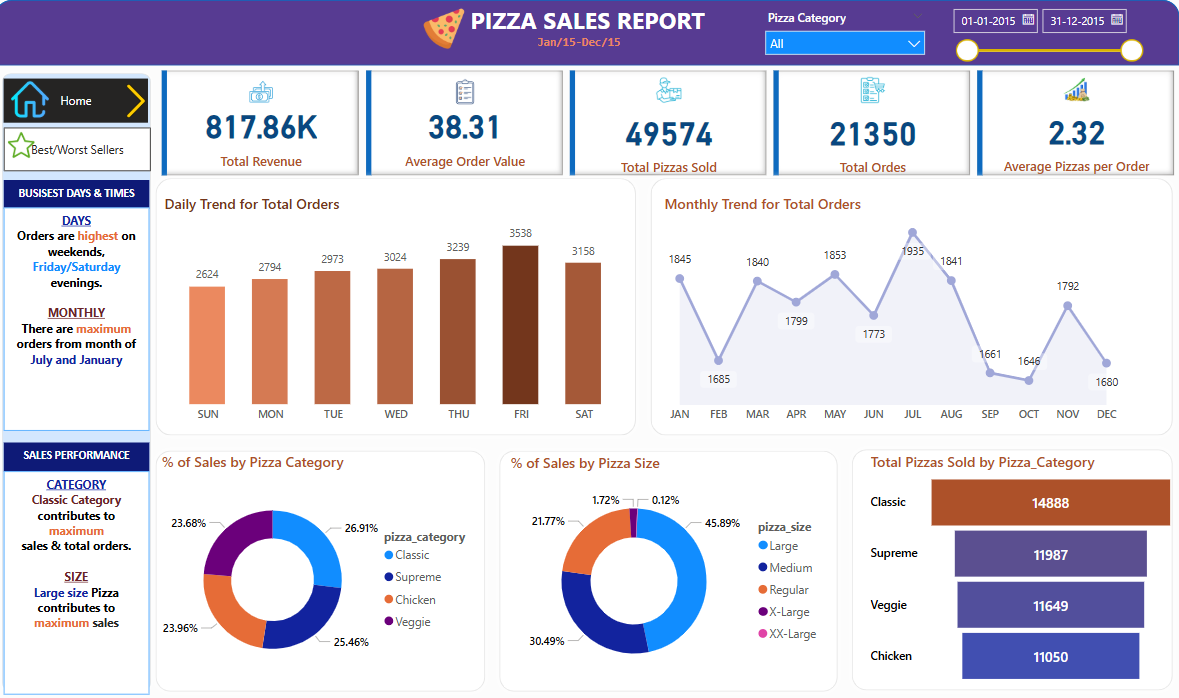

This screenshot's page, from the dashboard's own definition file:
{"tool":"powerbi","page":{"name":"Home","canvas":[1500,820],"ordinal":0},"visuals":[{"type":"shape","box":[0,75,186.2,722.5],"z":0},{"type":"textbox","box":[10,205,166.2,32.5],"z":1000},{"type":"cardVisual","fields":{"Data":["pizza_sales.Total Revenue","pizza_sales.Average Order Value","pizza_sales.Total Pizzas Sold","pizza_sales.Total Ordes","pizza_sales.Average Pizzas per Order"]},"box":[186.2,75,1167.5,130],"z":2000},{"type":"shape","box":[0,0,1353.8,75],"z":3000},{"type":"textbox","box":[528.8,0,297.5,46.2],"z":4000},{"type":"textbox","box":[613.8,32.5,122.5,32.5],"z":5000},{"type":"image","box":[483.8,0,57.5,65],"z":6000},{"type":"shape","box":[176.2,196.2,565,310],"z":7000},{"type":"columnChart","title":"Daily Trend for Total Orders","fields":{"Category":["pizza_sales.Order Day"],"Y":["pizza_sales.Total Ordes"]},"box":[188,221.3,540,270.7],"z":8000},{"type":"shape","box":[741.2,196.2,612.5,310],"z":9000},{"type":"areaChart","title":"Monthly Trend for Total Orders","fields":{"Y":["pizza_sales.Total Ordes"],"Category":["pizza_sales.Order Month"]},"box":[760,221.3,533.3,270.7],"z":10000},{"type":"shape","box":[176.2,507.5,392.5,291.2],"z":11000},{"type":"shape","box":[568.8,507.5,402.5,291.2],"z":12000},{"type":"shape","box":[971.2,506.2,382.5,291.2],"z":13000},{"type":"donutChart","title":"% of Sales by Pizza Category","fields":{"Category":["pizza_sales.pizza_category"],"Y":["pizza_sales.Total Revenue"]},"box":[186.2,516.2,372.5,272.5],"z":14000},{"type":"donutChart","title":"% of Sales by Pizza Size","fields":{"Y":["pizza_sales.Total Revenue"],"Category":["pizza_sales.pizza_size"]},"box":[583.8,517.5,372.5,272.5],"z":15000},{"type":"funnel","title":"Total Pizzas Sold by Pizza_Category","fields":{"Category":["pizza_sales.pizza_category"],"Y":["pizza_sales.Total Pizzas Sold"]},"box":[996.2,516.2,357.5,271.2],"z":16000},{"type":"textbox","box":[10,237.5,166.2,255],"z":17000},{"type":"textbox","box":[10,506.2,166.2,32.5],"z":18000},{"type":"textbox","box":[10,538.8,166.2,255],"z":19000},{"type":"slicer","fields":{"Values":["pizza_sales.pizza_category"]},"box":[870,5,202.5,60],"z":20000},{"type":"slicer","fields":{"Values":["pizza_sales.order_date"]},"box":[1082.5,0,237.5,75],"z":21000},{"type":"pageNavigator","box":[10.7,89.3,165.3,50.7],"z":22000},{"type":"pageNavigator","box":[9.3,145.3,168,50.7],"z":23000},{"type":"image","box":[117.3,92,88,48],"z":24000},{"type":"image","box":[0,86.7,80,53.3],"z":25000},{"type":"image","box":[9.3,145.3,40,40],"z":26000}]}

Visuals, with their boxes on the page's 1500x820 design canvas (x1, y1, x2, y2). These are canvas units, not pixel positions in the 1179x698 screenshot, which may show the page scaled, cropped or inside an application window:
shape: left=0, top=75, right=186, bottom=798
textbox: left=10, top=205, right=176, bottom=238
cardVisual - pizza_sales.Total Revenue x pizza_sales.Average Order Value: left=186, top=75, right=1354, bottom=205
shape: left=0, top=0, right=1354, bottom=75
textbox: left=529, top=0, right=826, bottom=46
textbox: left=614, top=32, right=736, bottom=65
image: left=484, top=0, right=541, bottom=65
shape: left=176, top=196, right=741, bottom=506
"Daily Trend for Total Orders" columnChart: left=188, top=221, right=728, bottom=492
shape: left=741, top=196, right=1354, bottom=506
"Monthly Trend for Total Orders" areaChart: left=760, top=221, right=1293, bottom=492
shape: left=176, top=508, right=569, bottom=799
shape: left=569, top=508, right=971, bottom=799
shape: left=971, top=506, right=1354, bottom=797
"% of Sales by Pizza Category" donutChart: left=186, top=516, right=559, bottom=789
"% of Sales by Pizza Size" donutChart: left=584, top=518, right=956, bottom=790
"Total Pizzas Sold by Pizza_Category" funnel: left=996, top=516, right=1354, bottom=787
textbox: left=10, top=238, right=176, bottom=492
textbox: left=10, top=506, right=176, bottom=539
textbox: left=10, top=539, right=176, bottom=794
slicer - pizza_sales.pizza_category: left=870, top=5, right=1072, bottom=65
slicer - pizza_sales.order_date: left=1082, top=0, right=1320, bottom=75
pageNavigator: left=11, top=89, right=176, bottom=140
pageNavigator: left=9, top=145, right=177, bottom=196
image: left=117, top=92, right=205, bottom=140
image: left=0, top=87, right=80, bottom=140
image: left=9, top=145, right=49, bottom=185
